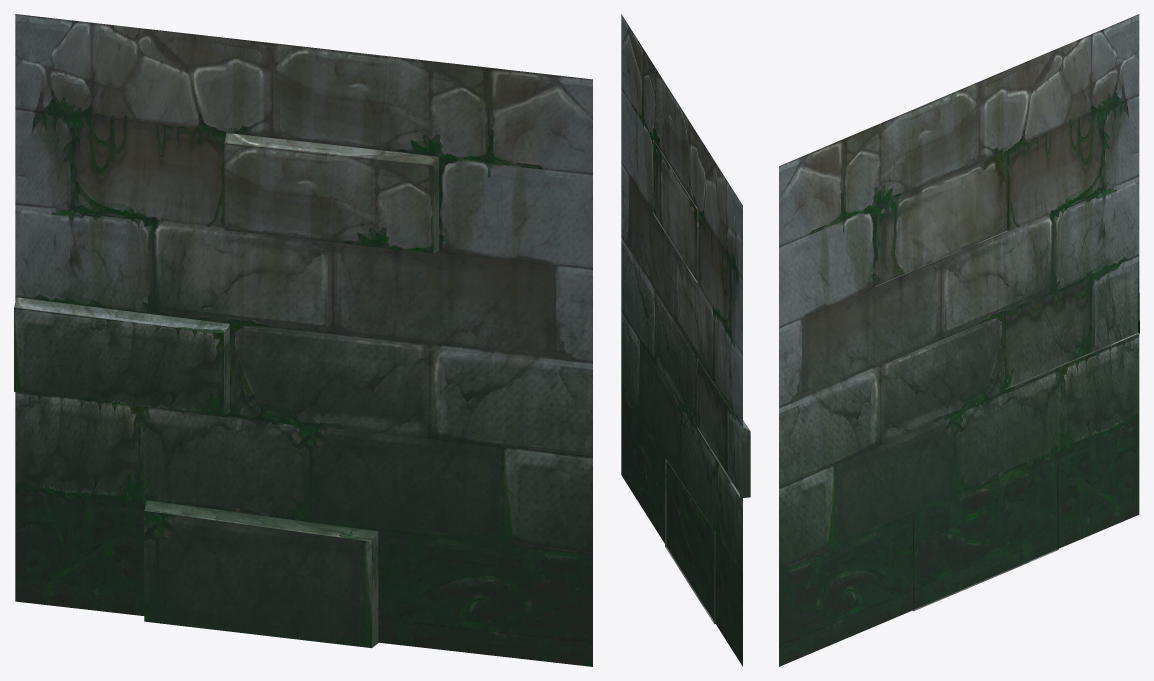
The model's file is stemple_wall_diagonal_03.fbx.
3 renders of one model, left to right at view 1: azimuth 30°, elevation 25°; view 2: azimuth 150°, elevation 25°; view 3: azimuth 270°, elevation 25°, orthographic. The views are drawn at different scales.
Parts seen in each view (by area): view 1: obj0.125; view 2: obj0.125; view 3: obj0.125.
Boxes of the visible parts, x1=… form: obj0.125: x1=14, y1=14, x2=592, y2=666; obj0.125: x1=621, y1=14, x2=750, y2=666; obj0.125: x1=779, y1=14, x2=1139, y2=666.
Bounding box in the file's own units: 3.64 × 5.51 × 3.59.
